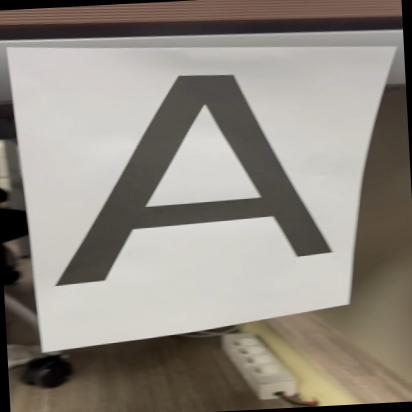seat: (38, 62, 330, 298)
